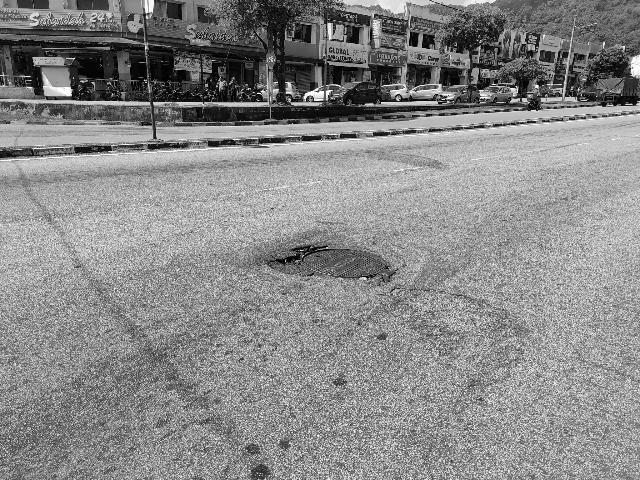Pothole: (267, 243, 397, 288)
